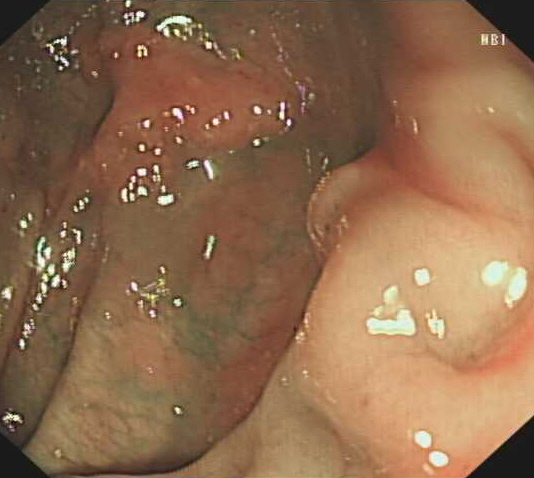others: (93, 20, 301, 153)
